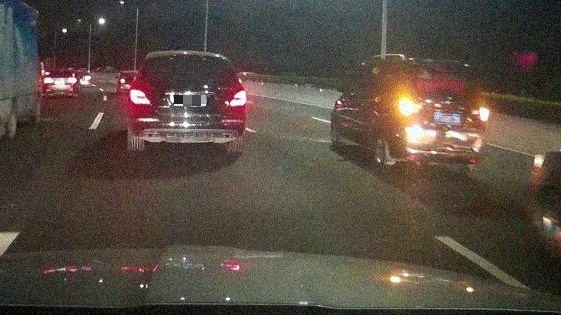L_light: (129, 88, 151, 105), (398, 100, 422, 114), (43, 77, 54, 83)
R_light: (229, 89, 245, 107), (471, 107, 487, 120), (67, 77, 75, 83)
T_light: (432, 69, 449, 75), (179, 56, 195, 59), (55, 70, 62, 71)
night-no: (128, 51, 246, 155), (391, 59, 488, 174), (43, 69, 76, 98)
plate_1: (174, 95, 206, 106)
